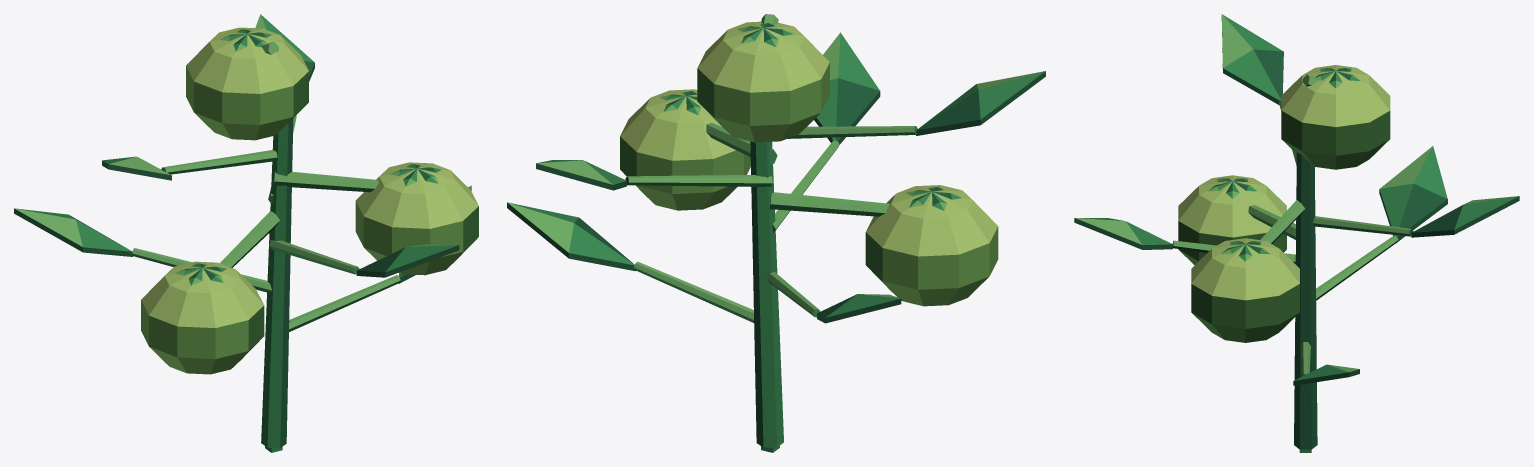
The model's file is tomato_stage_03.fbx.
The picture shows the model from 3 angles, left to right: view 1: azimuth 30°, elevation 25°; view 2: azimuth 150°, elevation 25°; view 3: azimuth 270°, elevation 25°; orthographic projection. The views are drawn at different scales.
Parts seen in each view (by area): view 1: tomato_stage_03__Foliage; view 2: tomato_stage_03__Foliage; view 3: tomato_stage_03__Foliage.
Part boxes in pixels (x1,y1,x2,y2): tomato_stage_03__Foliage: (14,14,478,447); tomato_stage_03__Foliage: (507,14,1045,447); tomato_stage_03__Foliage: (1074,14,1519,449).
Size of the model in its own units: 1.54 by 1.39 by 1.49.
1 material, 1 textured.
